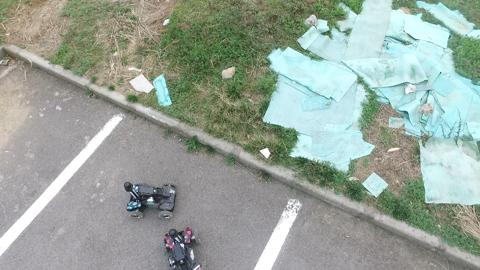chariot: (115, 172, 179, 221), (161, 220, 208, 270)
